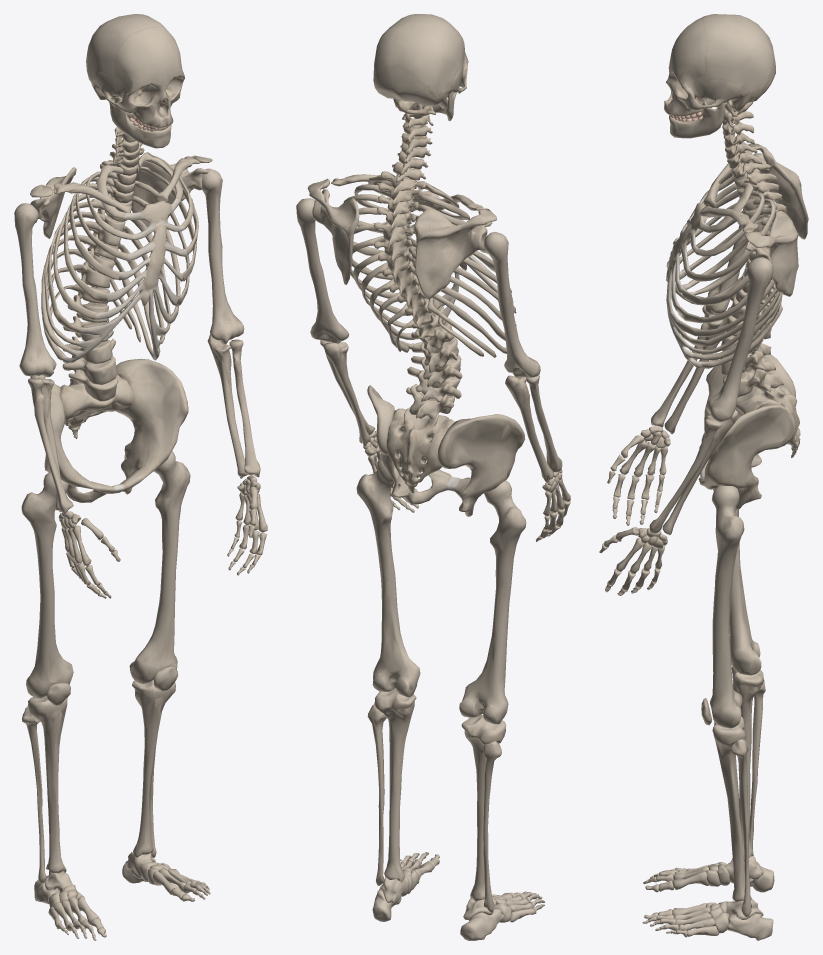
File: BestID5.glb
3 views of the same model, side by side, from view 1: azimuth 30°, elevation 25°; view 2: azimuth 150°, elevation 25°; view 3: azimuth 270°, elevation 25° (orthographic). The views are drawn at different scales.
Visible parts, largest first — view 1: best_id5; view 2: best_id5; view 3: best_id5.
Part boxes in pixels (<box>): best_id5: <box>14,14,267,940</box>; best_id5: <box>296,14,570,940</box>; best_id5: <box>599,14,808,940</box>.
Size of the model in its own units: 0.4145 by 1.57 by 0.328.
10 materials, 10 textured.
